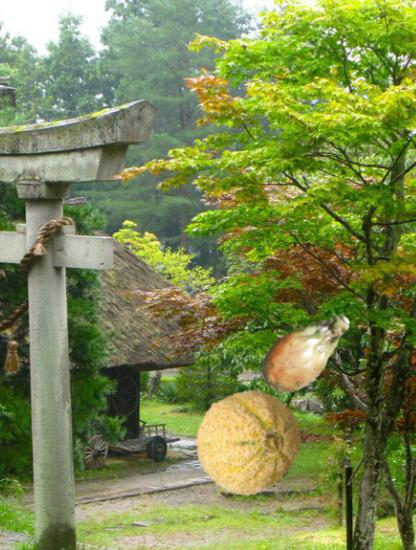Cactus: (255, 299, 361, 405)
Cantaloupe: (194, 387, 303, 496)
